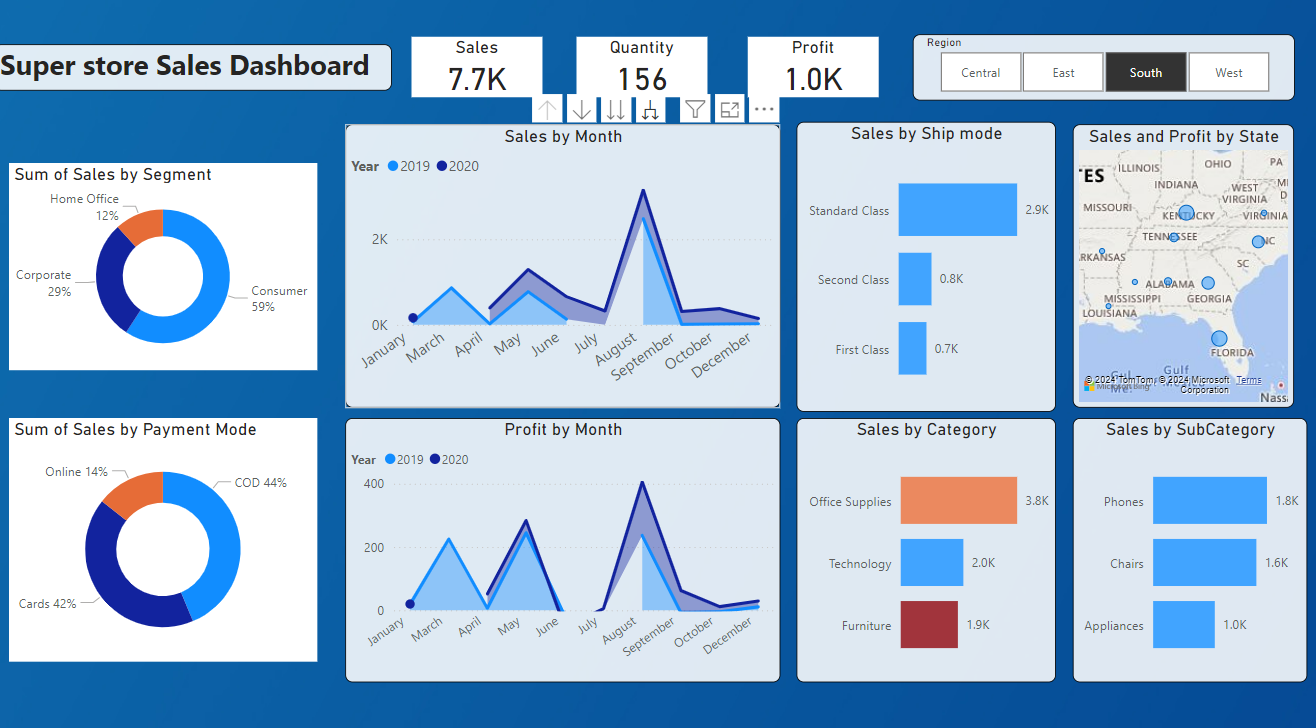

The dashboard page shown, as its layout file describes it:
{"tool":"powerbi","page":{"name":"Page 1","canvas":[1280,720],"ordinal":0},"visuals":[{"type":"clusteredBarChart","title":" Sales by Category","fields":{"Category":["SuperStore_Sales_Dataset.Category"],"Y":["Sum(SuperStore_Sales_Dataset.Sales)"]},"box":[775,410,250,255],"z":0},{"type":"clusteredBarChart","title":" Sales by SubCategory","fields":{"Category":["SuperStore_Sales_Dataset.Sub-Category","SuperStore_Sales_Dataset.Category"],"Y":["Sum(SuperStore_Sales_Dataset.Sales)"]},"box":[1041.2,410,226.2,255],"z":1000},{"type":"clusteredBarChart","title":" Sales by Ship mode","fields":{"Y":["Sum(SuperStore_Sales_Dataset.Sales)"],"Category":["SuperStore_Sales_Dataset.Ship Mode"]},"box":[775,123.8,250,280],"z":2000},{"type":"stackedAreaChart","title":"Sales by Month ","fields":{"Y":["Sum(SuperStore_Sales_Dataset.Sales)"],"Category":["SuperStore_Sales_Dataset.Order Date.Variation.Date Hierarchy.Month","SuperStore_Sales_Dataset.Order Date.Variation.Date Hierarchy.Day"],"Series":["SuperStore_Sales_Dataset.Order Date.Variation.Date Hierarchy.Year"]},"box":[338.8,126.2,420,273.8],"z":3000},{"type":"stackedAreaChart","title":" Profit by Month ","fields":{"Y":["Sum(SuperStore_Sales_Dataset.Profit)"],"Series":["SuperStore_Sales_Dataset.Order Date.Variation.Date Hierarchy.Year"],"Category":["SuperStore_Sales_Dataset.Order Date.Variation.Date Hierarchy.Month","SuperStore_Sales_Dataset.Order Date.Variation.Date Hierarchy.Day"]},"box":[338.8,410,420,255],"z":4000},{"type":"map","title":" Sales and  Profit by State","fields":{"Category":["SuperStore_Sales_Dataset.State"],"Size":["Sum(SuperStore_Sales_Dataset.Sales)"]},"box":[1041.2,126.2,213.8,273.8],"z":5000},{"type":"donutChart","fields":{"Category":["SuperStore_Sales_Dataset.Segment"],"Y":["Sum(SuperStore_Sales_Dataset.Sales)"]},"box":[15,163.8,297.5,200],"z":6000},{"type":"slicer","fields":{"Values":["SuperStore_Sales_Dataset.Region"]},"box":[886.2,40,368.8,63.8],"z":7000},{"type":"textbox","box":[0,50,383.8,45],"z":8000},{"type":"donutChart","fields":{"Category":["SuperStore_Sales_Dataset.Payment Mode","SuperStore_Sales_Dataset.Segment"],"Y":["Sum(SuperStore_Sales_Dataset.Sales)"]},"box":[15,410,297.5,235],"z":9000},{"type":"card","title":"Sales","fields":{"Values":["Sum(SuperStore_Sales_Dataset.Sales)"]},"box":[402.5,42.5,126.2,58.8],"z":10000},{"type":"card","title":"Quantity","fields":{"Values":["Sum(SuperStore_Sales_Dataset.Quantity)"]},"box":[562.5,42.5,126.2,58.8],"z":11000},{"type":"card","title":"Profit","fields":{"Values":["Sum(SuperStore_Sales_Dataset.Profit)"]},"box":[727.5,42.5,126.2,58.8],"z":12000}]}

Visuals, with their boxes in screenshot pixels (x1, y1, x2, y2), scaled from the page's 1280x720 canvas onto the 1316x728 screenshot:
" Sales by Category" clusteredBarChart: [left=797, top=415, right=1054, bottom=672]
" Sales by SubCategory" clusteredBarChart: [left=1070, top=415, right=1303, bottom=672]
" Sales by Ship mode" clusteredBarChart: [left=797, top=125, right=1054, bottom=408]
"Sales by Month " stackedAreaChart: [left=348, top=128, right=780, bottom=404]
" Profit by Month " stackedAreaChart: [left=348, top=415, right=780, bottom=672]
" Sales and  Profit by State" map: [left=1070, top=128, right=1290, bottom=404]
donutChart - SuperStore_Sales_Dataset.Segment x Sum(SuperStore_Sales_Dataset.Sales): [left=15, top=166, right=321, bottom=368]
slicer - SuperStore_Sales_Dataset.Region: [left=911, top=40, right=1290, bottom=105]
textbox: [left=0, top=51, right=395, bottom=96]
donutChart - SuperStore_Sales_Dataset.Payment Mode x SuperStore_Sales_Dataset.Segment: [left=15, top=415, right=321, bottom=652]
"Sales" card: [left=414, top=43, right=544, bottom=102]
"Quantity" card: [left=578, top=43, right=708, bottom=102]
"Profit" card: [left=748, top=43, right=878, bottom=102]
